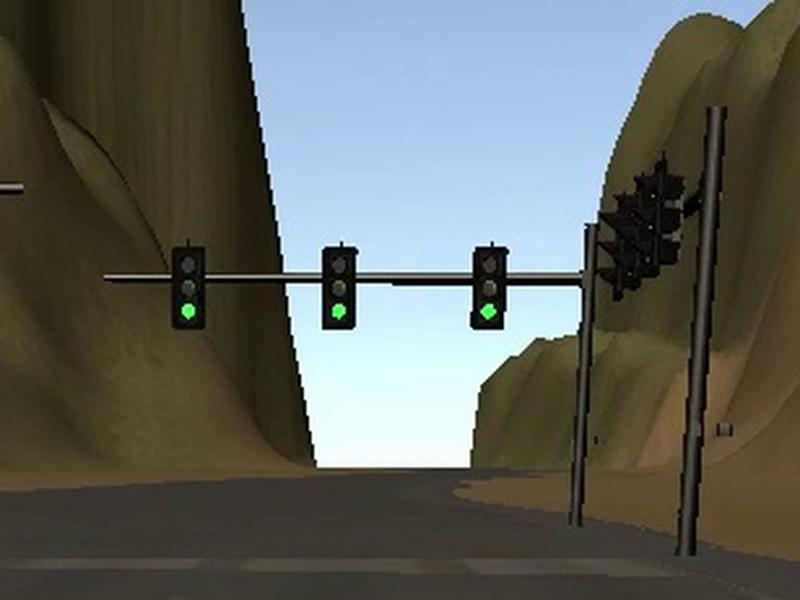Green: (470, 246, 507, 330), (321, 246, 358, 329), (171, 246, 204, 329)
